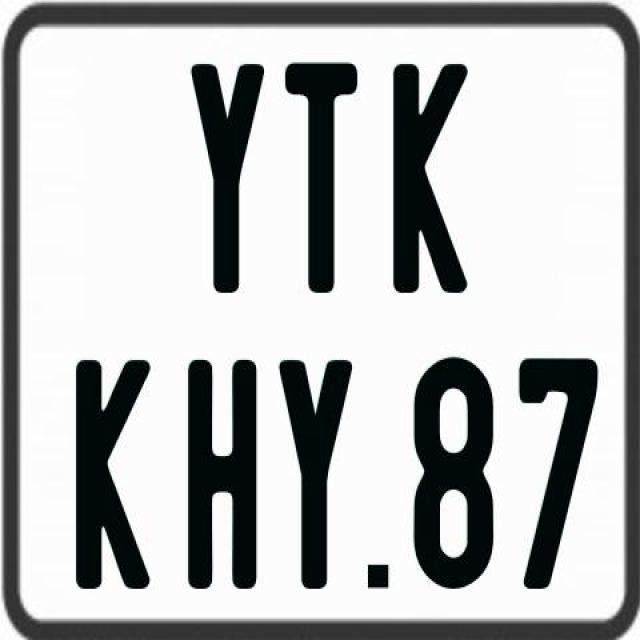7: (516, 353, 600, 592)
8: (409, 354, 496, 586)
H: (188, 357, 262, 586)
K: (391, 64, 474, 302), (74, 358, 158, 590)
T: (284, 63, 358, 300)
Y: (278, 360, 358, 592), (188, 64, 263, 298)
